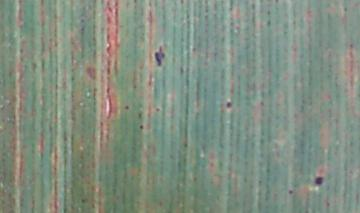tarspot: (154, 44, 166, 68), (146, 6, 155, 30), (85, 65, 97, 82), (146, 70, 154, 89), (314, 175, 325, 186), (30, 60, 37, 74), (225, 98, 232, 111), (202, 1, 209, 14), (346, 41, 356, 50), (178, 65, 186, 76), (122, 103, 132, 111), (325, 198, 332, 209), (191, 45, 197, 56), (78, 197, 87, 204), (287, 188, 294, 196), (154, 105, 162, 112), (79, 25, 86, 33), (39, 1, 46, 9), (258, 100, 265, 108), (138, 123, 144, 132), (182, 141, 188, 150), (79, 17, 85, 25), (209, 160, 215, 168), (266, 17, 271, 26), (342, 4, 347, 12), (267, 8, 271, 18), (178, 1, 184, 6), (132, 1, 138, 6), (273, 1, 280, 4)
